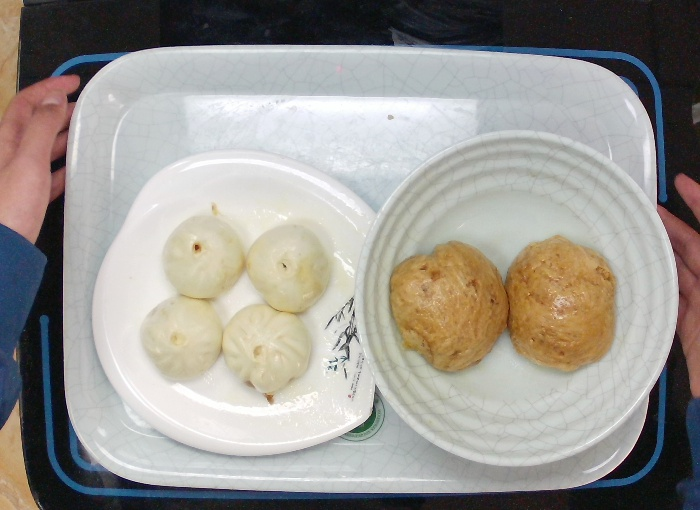JYsf-Da_Tang_Wan: (350, 123, 685, 472)
JYsf-Mian_Pan: (82, 144, 402, 462)
